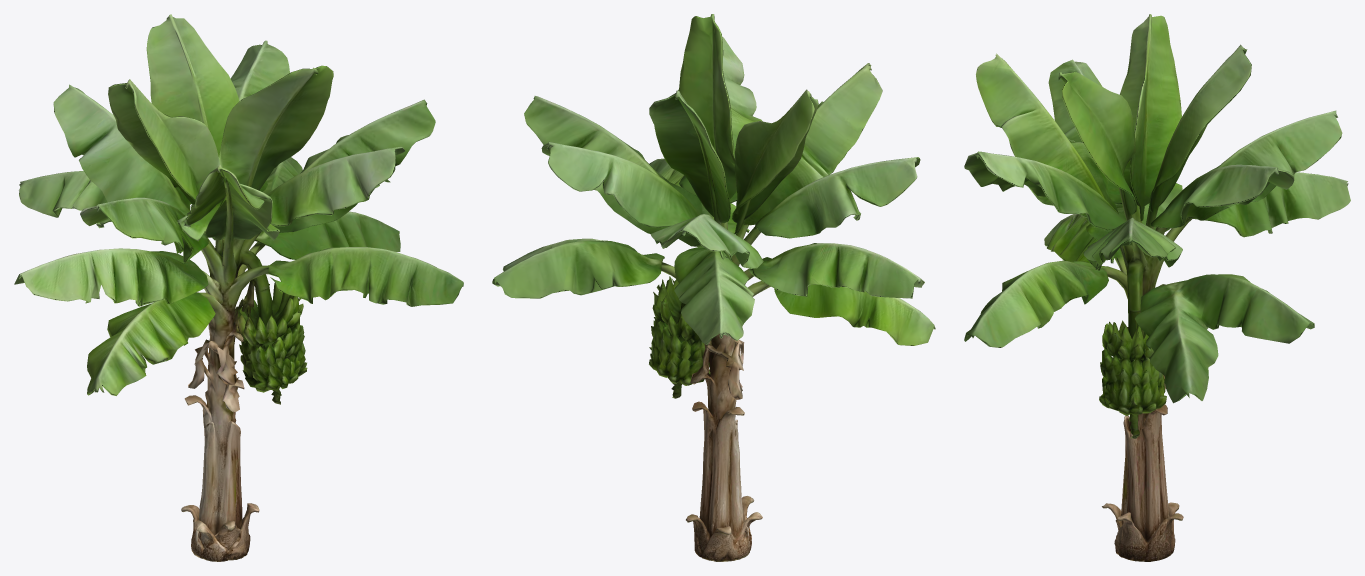
File: banana_a.glb
3 views of the same model, side by side, from view 1: azimuth 30°, elevation 25°; view 2: azimuth 150°, elevation 25°; view 3: azimuth 270°, elevation 25° (orthographic).
Parts seen in each view (by area): view 1: banana_a; view 2: banana_a; view 3: banana_a.
Boxes of the visible parts, x1,y1,x2,y2 form: banana_a: (14, 14, 463, 561); banana_a: (492, 14, 935, 561); banana_a: (964, 14, 1350, 561).
Size of the model in its own units: 0.8251 by 0.9837 by 0.6829.
Materials: 1 (1 with a texture image).
